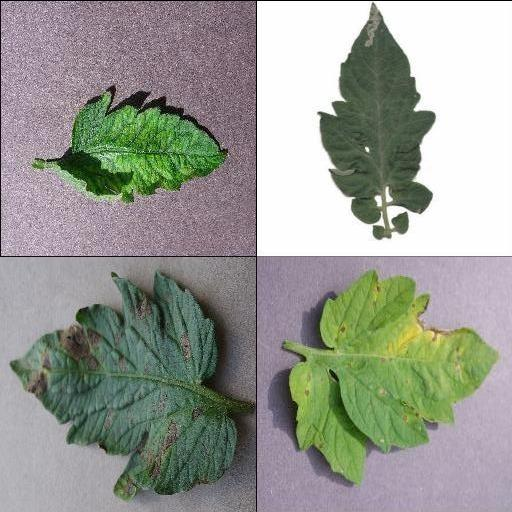Early Blight: (8, 272, 234, 501)
Leaf Miner: (318, 0, 440, 199)
Mosaic Virus: (56, 91, 230, 207)
Septoria: (287, 272, 499, 484)
